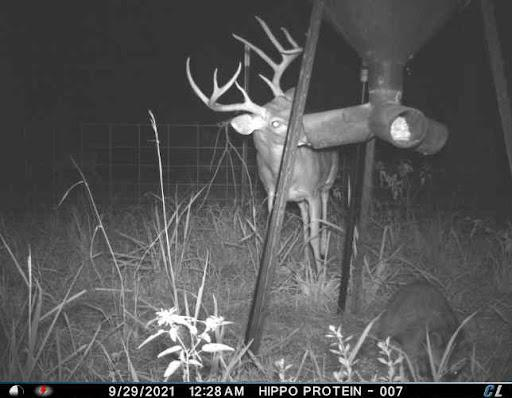Deer: (178, 9, 343, 289)
